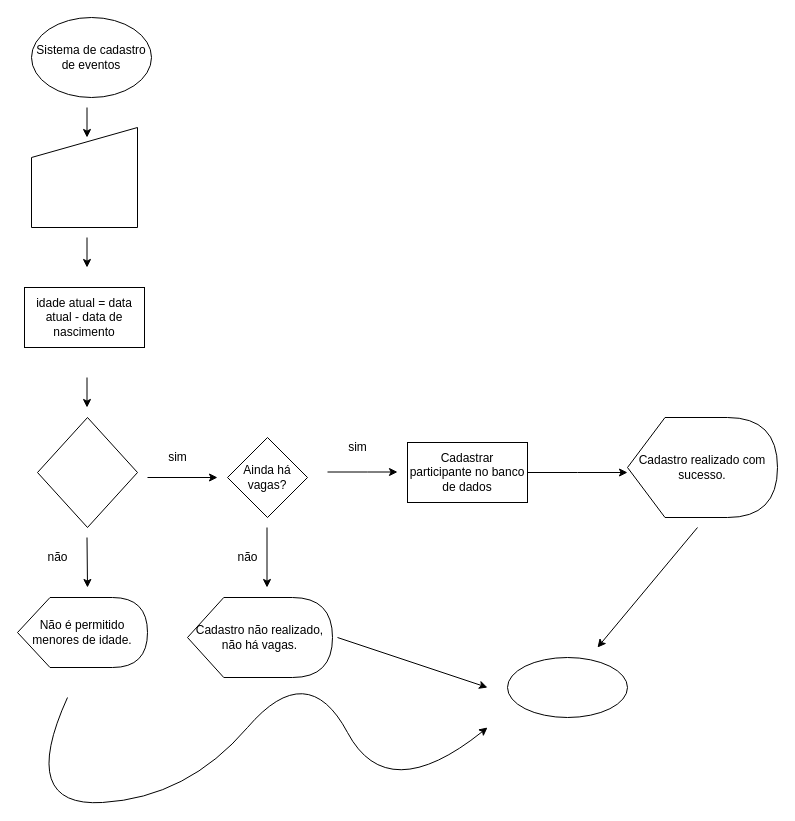
This 795x821 diagram has some shape labels left out. Here are the shapes that lost their labels. From the top down, the centre of each, then its label:
[84,177]: E-mail, nome de usuário, data de nascimento e senha
[87,472]: é maior de 18 anos?
[567,687]: Fim
